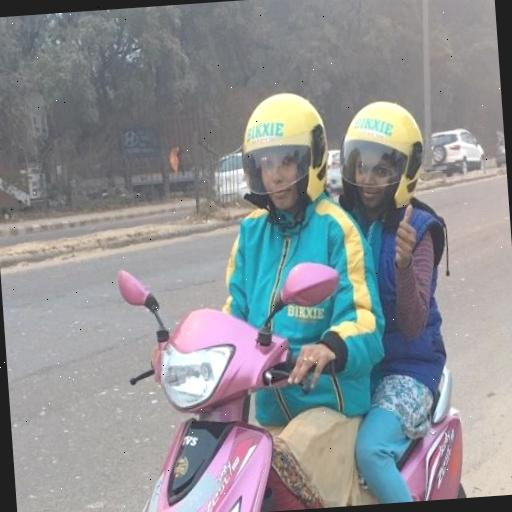helmet: (83, 70, 398, 512)
